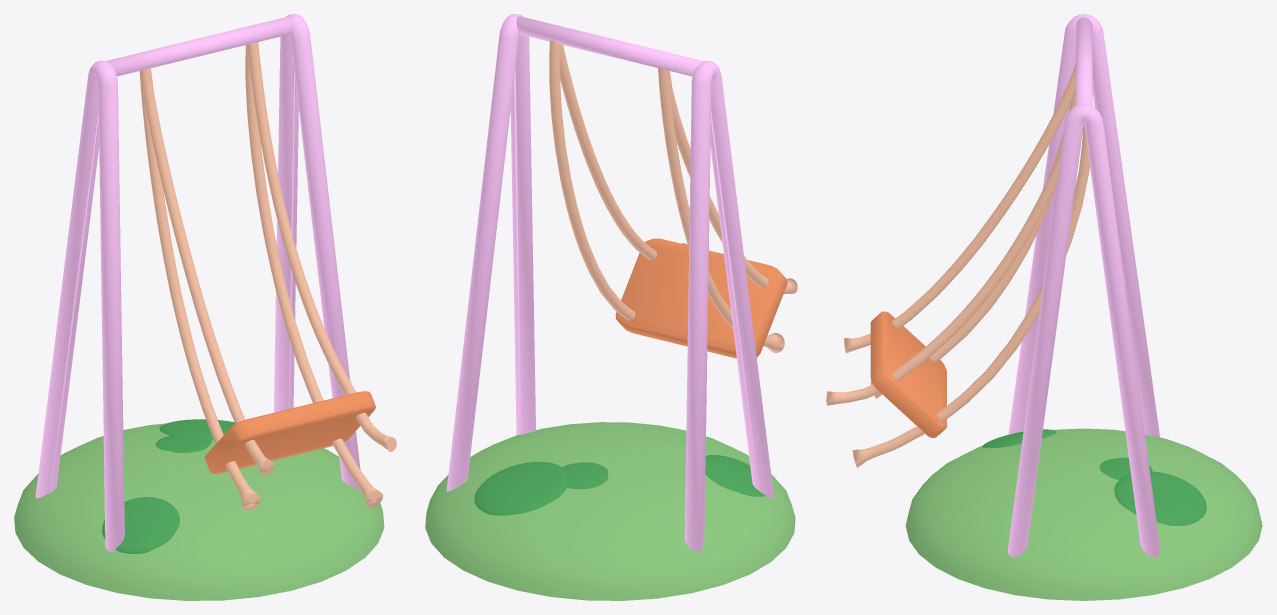
3 views of the same model, side by side, from view 1: azimuth 30°, elevation 25°; view 2: azimuth 150°, elevation 25°; view 3: azimuth 270°, elevation 25° (orthographic). The views are drawn at different scales.
Parts seen in each view (by area): view 1: ground, swing_metal, swing, rope.004, rope.002, rope.001, rope.003, grass.002, grass, grass.001; view 2: ground, swing_metal, swing, grass, rope.002, rope.003, rope.004, rope.001, grass.002, grass.001; view 3: ground, swing_metal, swing, rope.001, rope.002, rope.004, grass, rope.003.
Part boxes in pixels (x1,y1,x2,y2): ground: (14,423,384,600); swing_metal: (35,14,361,551); swing: (204,391,375,473); rope.004: (247,42,396,451); rope.002: (245,45,382,507); rope.001: (140,68,274,474); rope.003: (139,71,260,510); grass.002: (102,497,179,553); grass: (159,419,235,440); grass.001: (155,435,211,452); ground: (425,422,795,600); swing_metal: (446,14,773,551); swing: (615,238,787,358); grass: (474,461,567,515); rope.002: (549,40,635,320); rope.003: (658,67,784,352); rope.004: (560,44,687,260); rope.001: (668,71,797,294); grass.002: (705,455,765,496); grass.001: (562,462,608,489); ground: (905,428,1262,600); swing_metal: (1008,14,1160,557); swing: (870,311,946,437); rope.001: (844,63,1075,353); rope.002: (852,122,1089,467); rope.004: (826,149,1061,405); grass: (1114,471,1206,525); rope.003: (870,90,1075,398).
Bounding box in the file's own units: 1.72 × 2.47 × 2.1.
